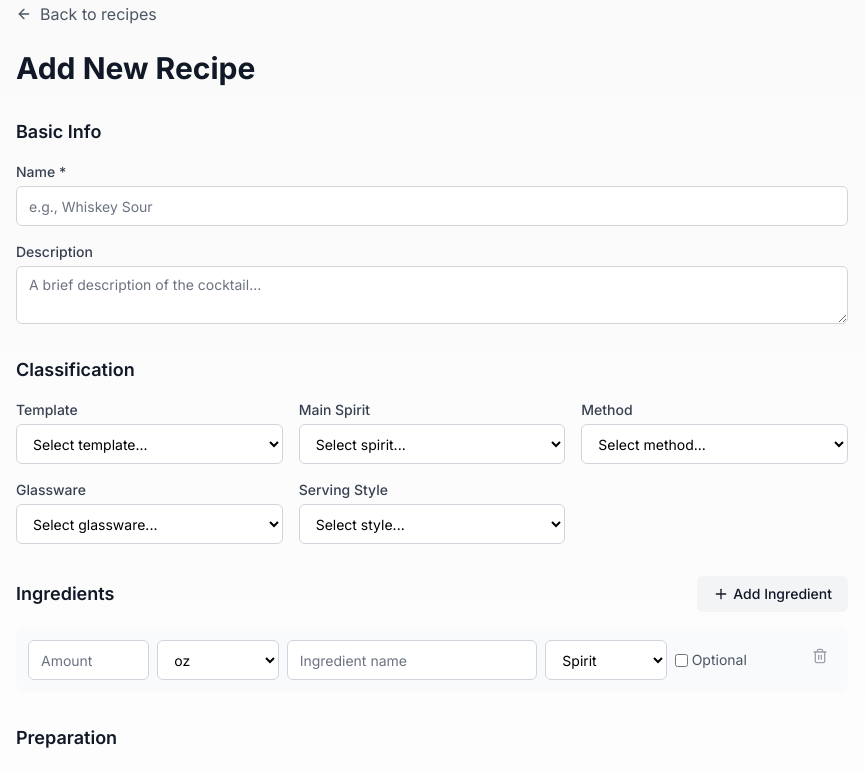
Test: NewRecipePage › Form Submission › shows error message on failure
Step 1. Type "Test Cocktail" into the field labelled "Name *" → (432, 206), box top-left (16, 186), bottom-right (848, 226)
(page scrolled)
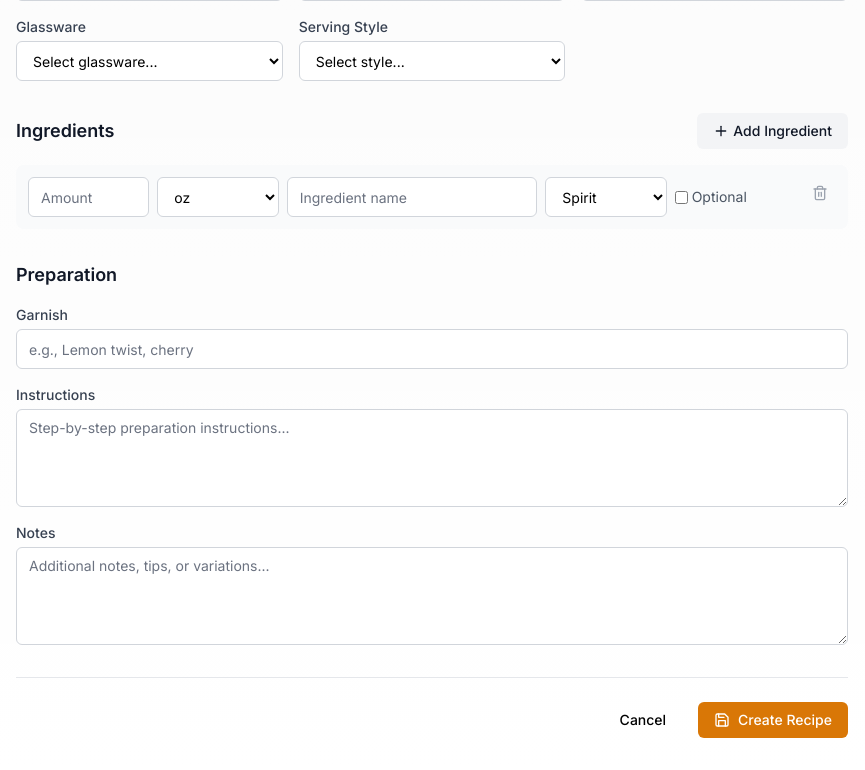
Step 2. Click the button "Create Recipe" → (773, 720), box top-left (698, 702), bottom-right (848, 738)
(page scrolled)
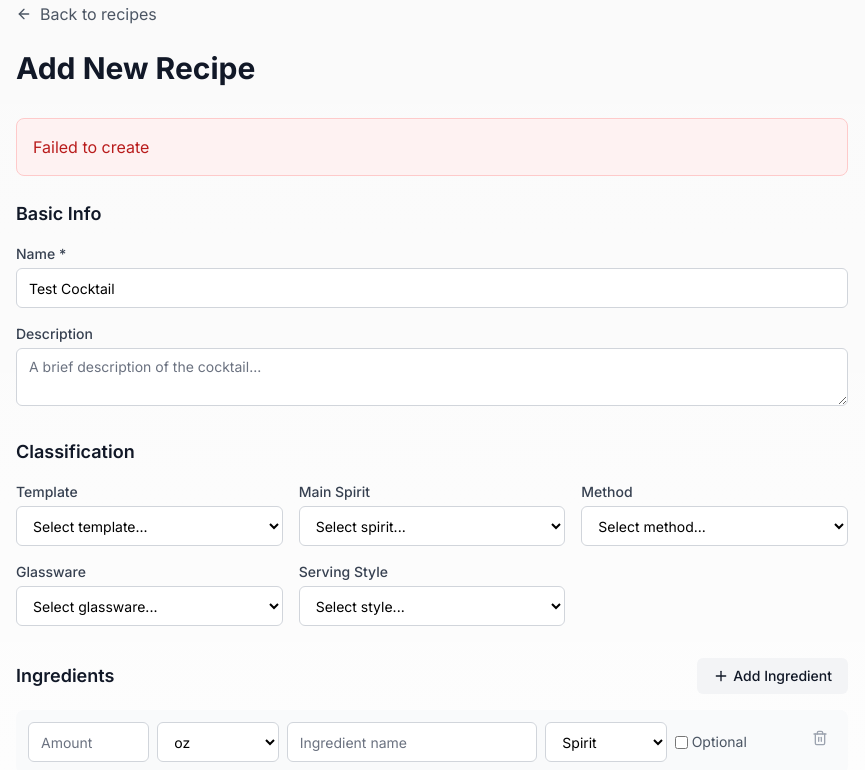
expect the text "Failed to create" is shown: met, box top-left (16, 118), bottom-right (848, 176)
